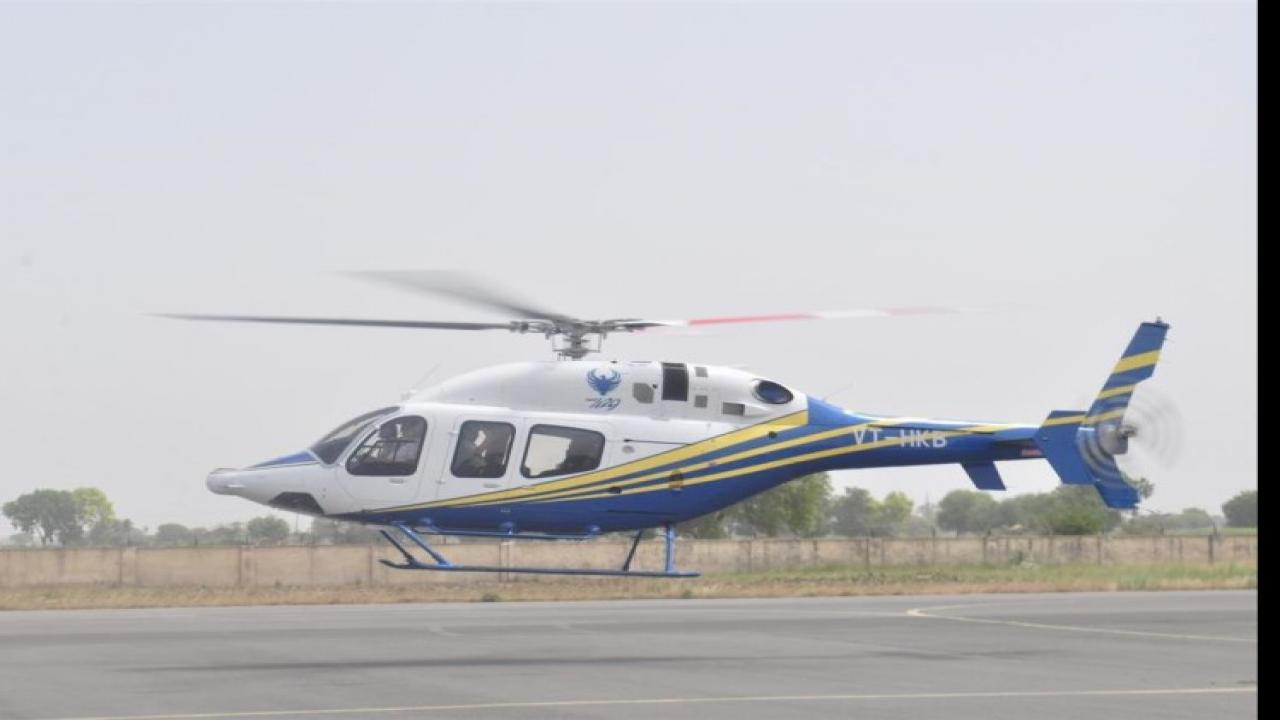Helicopter: (124, 240, 1201, 621)
